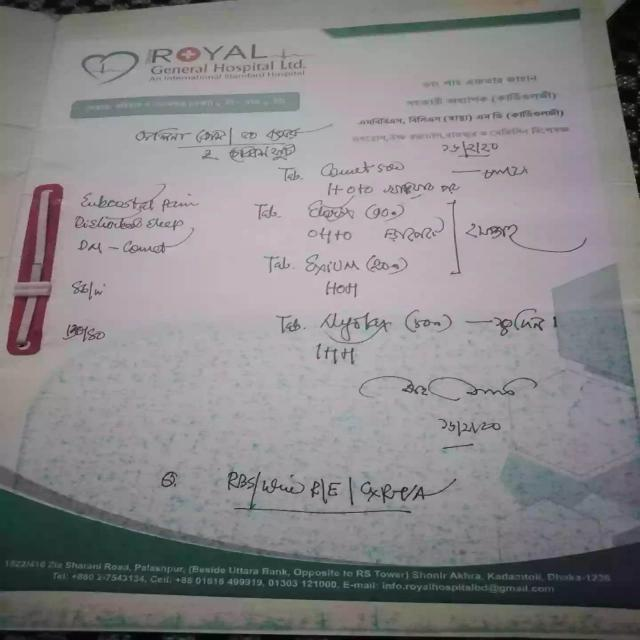Comet: (301, 157, 376, 182)
Etorix: (301, 196, 360, 227)
Exium: (300, 252, 366, 280)
Myolax: (309, 308, 402, 339)
